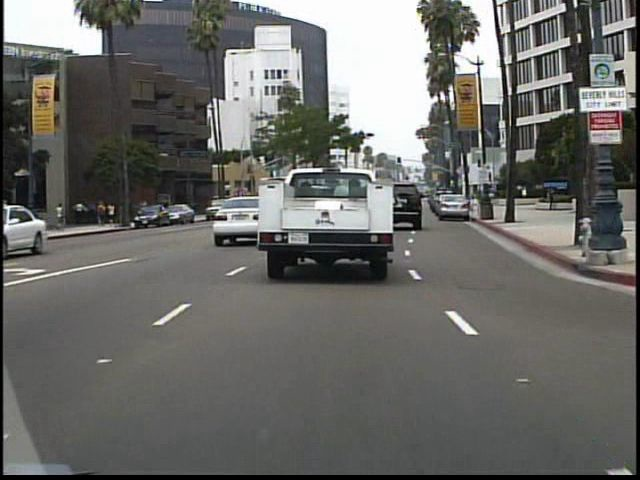person: (545, 183, 557, 214), (57, 202, 68, 225)
